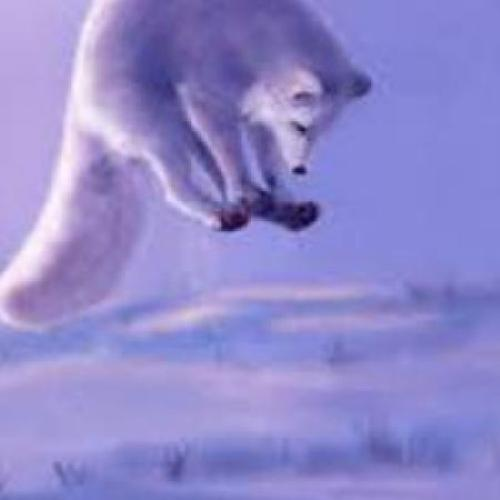arctic_fox-endangered: (0, 0, 373, 333)
